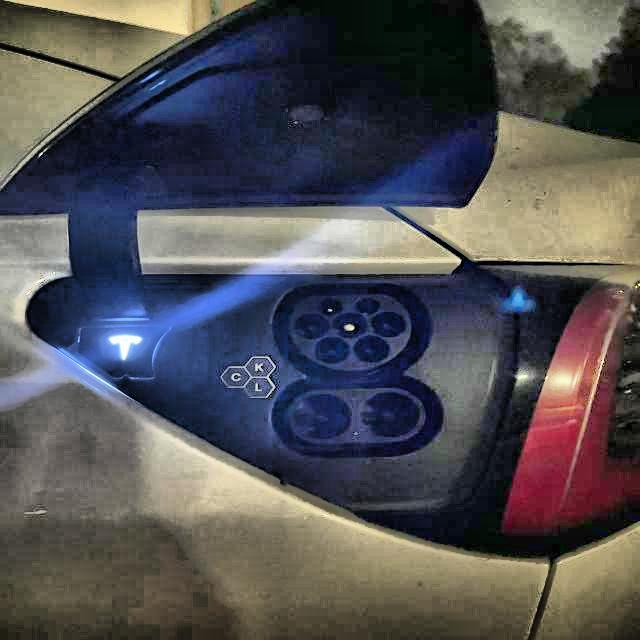inlet: (289, 294, 411, 371)
inlet-above-left: (315, 298, 343, 315)
inlet-above-right: (355, 297, 381, 315)
inlet-below-left: (314, 337, 350, 364)
inlet-below-right: (354, 336, 390, 362)
inlet-center: (333, 313, 368, 338)
inlet-center-left: (295, 314, 330, 339)
inlet-center-right: (372, 312, 407, 337)
